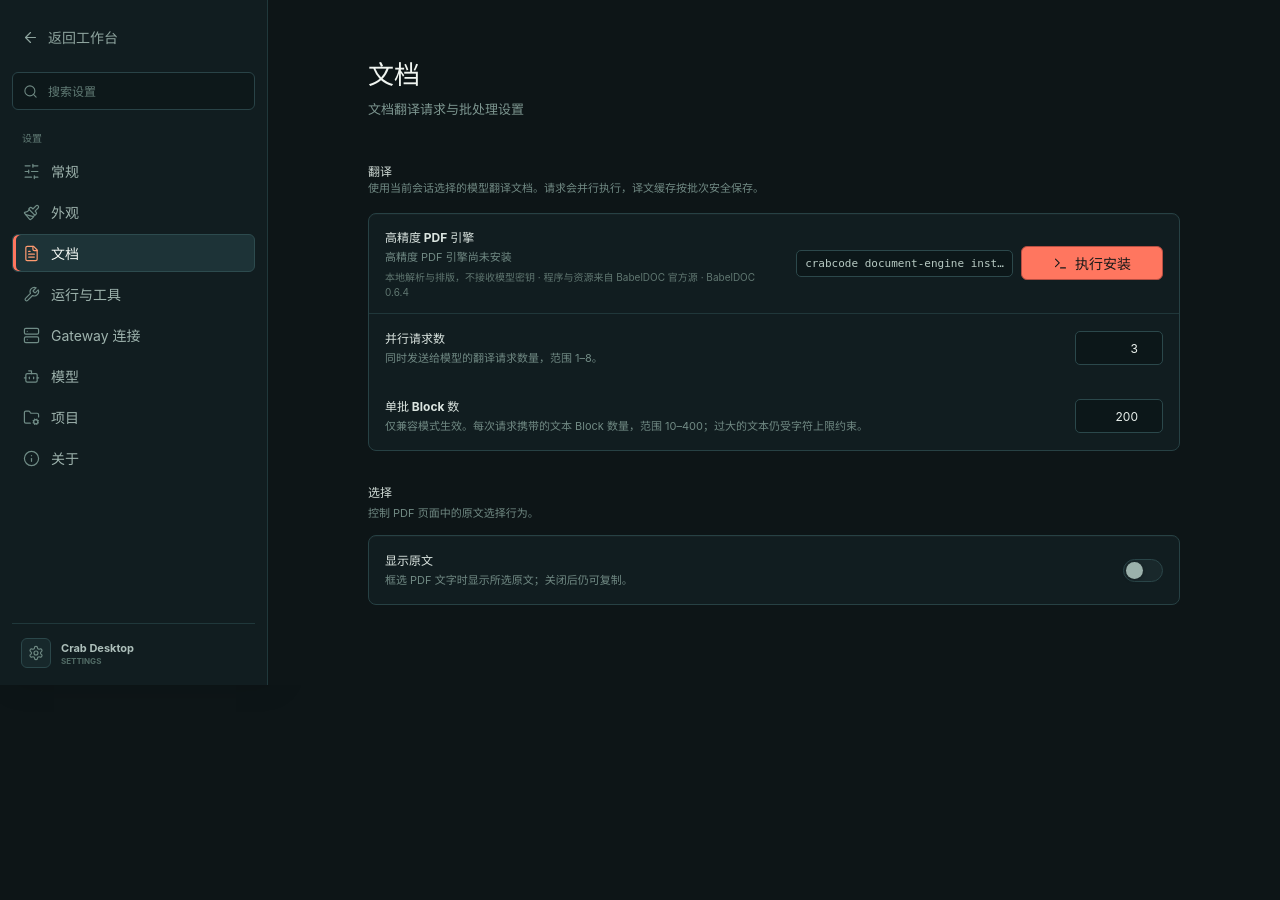
Test case: SettingsView › keeps the document engine and translation controls in one group
This screenshot has width=1280, height=900.
Check: the number of elements with class "document-engine-row" is 1, box [369,214,1179,314]
Check: the text "crabcode document-engine install" is shown, box [796,250,1013,277]
What coordinates should you click on to do the following:
click the button "执行安装"
I would click on:
 (1092, 264)
Its box is [1021,246,1163,280].
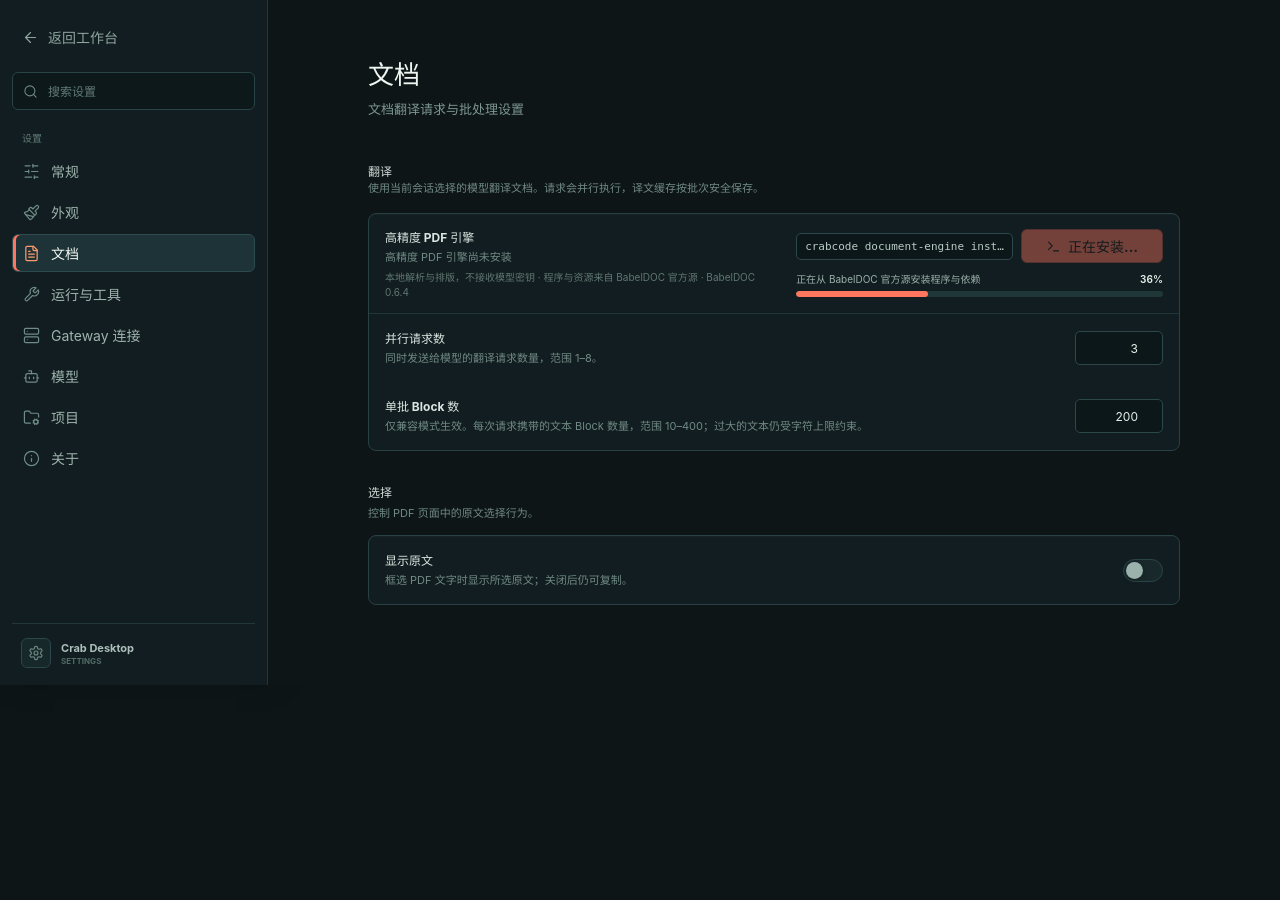
Check: the progress indicator "正在从 BabelDOC 官方源安装程序与依赖 36%" is shown, box [796,272,1163,298]
Check: the text "正在安装…" is shown, box [1021,230,1163,264]
